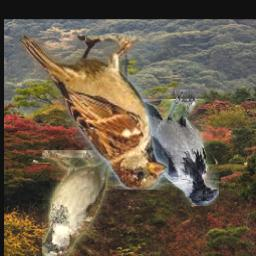Crow: (131, 90, 218, 207)
Sparrow: (20, 36, 169, 190), (41, 150, 116, 256)
